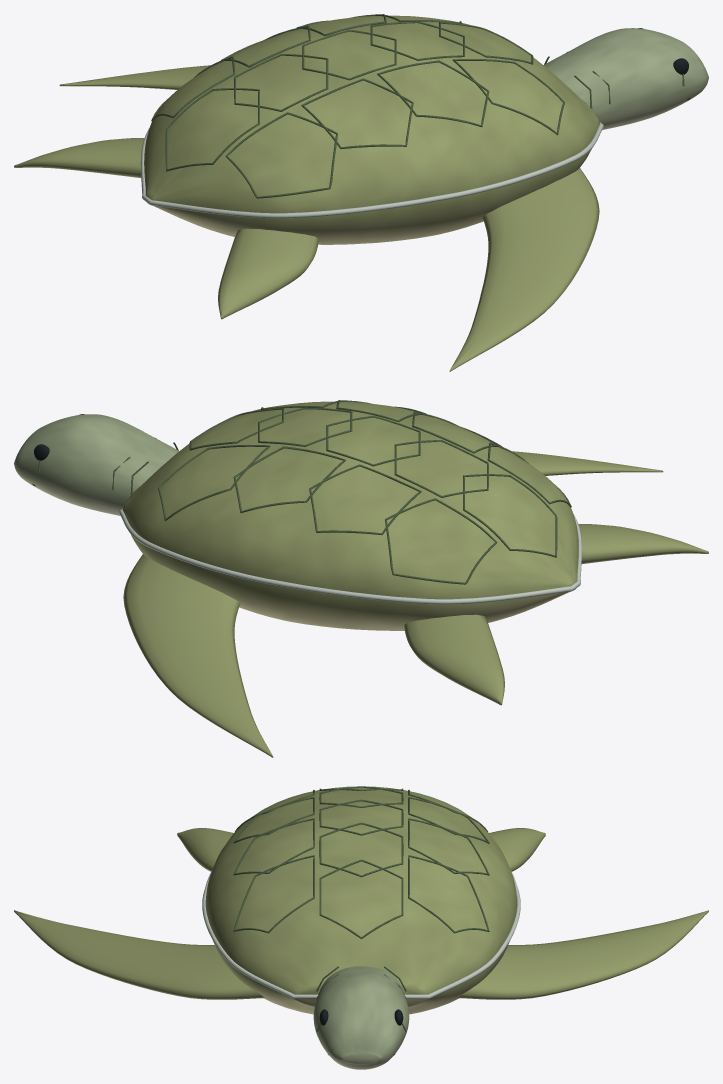
File: turtle.glb
3 renders of one model, top to bottom at view 1: azimuth 30°, elevation 25°; view 2: azimuth 150°, elevation 25°; view 3: azimuth 270°, elevation 25°, orthographic. The views are drawn at different scales.
Visible parts, largest first — view 1: turtle; view 2: turtle; view 3: turtle.
Part boxes in pixels (x1,y1,x2,y2): turtle: (14, 14, 708, 371); turtle: (14, 400, 708, 757); turtle: (14, 786, 708, 1069).
Bounding box in the file's own units: 3.15 × 0.8884 × 3.66.
